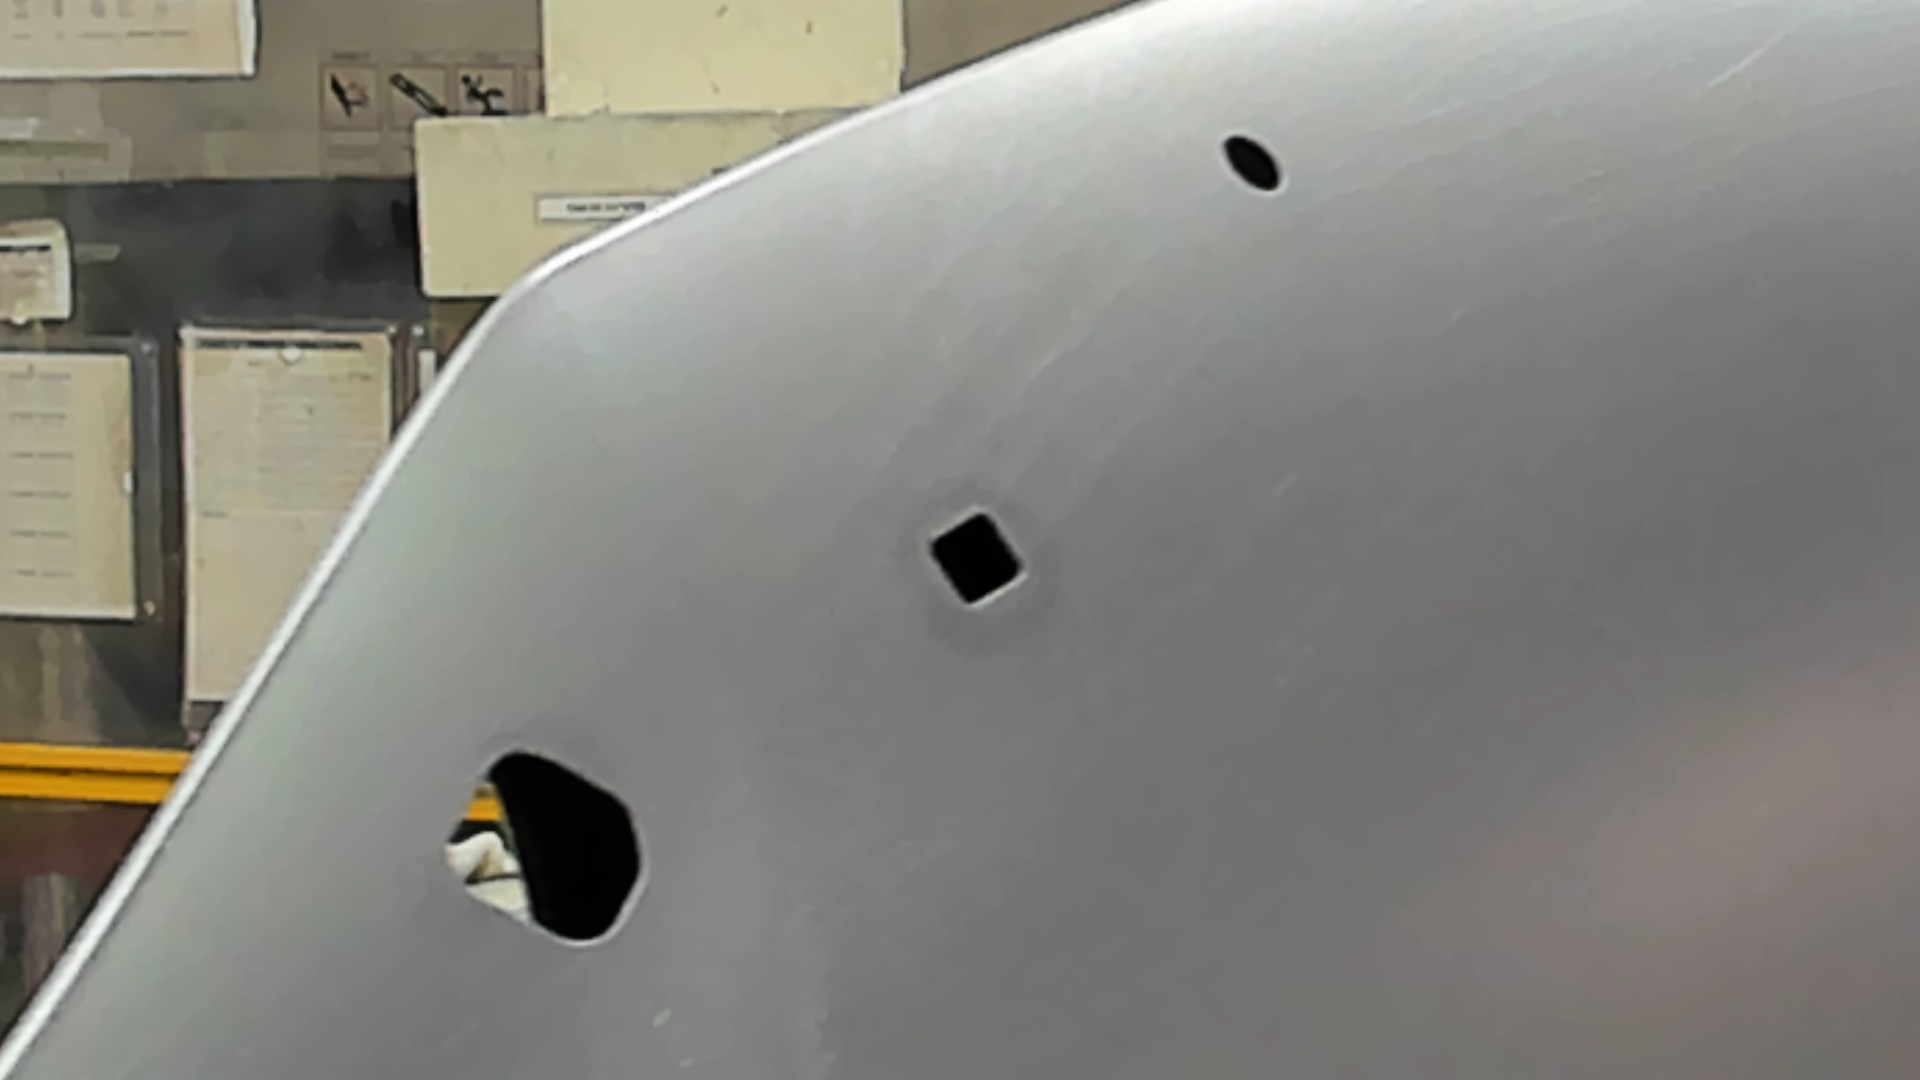chico: (1216, 124, 1288, 196)
grande: (436, 745, 650, 953)
mediano: (923, 506, 1029, 615)
